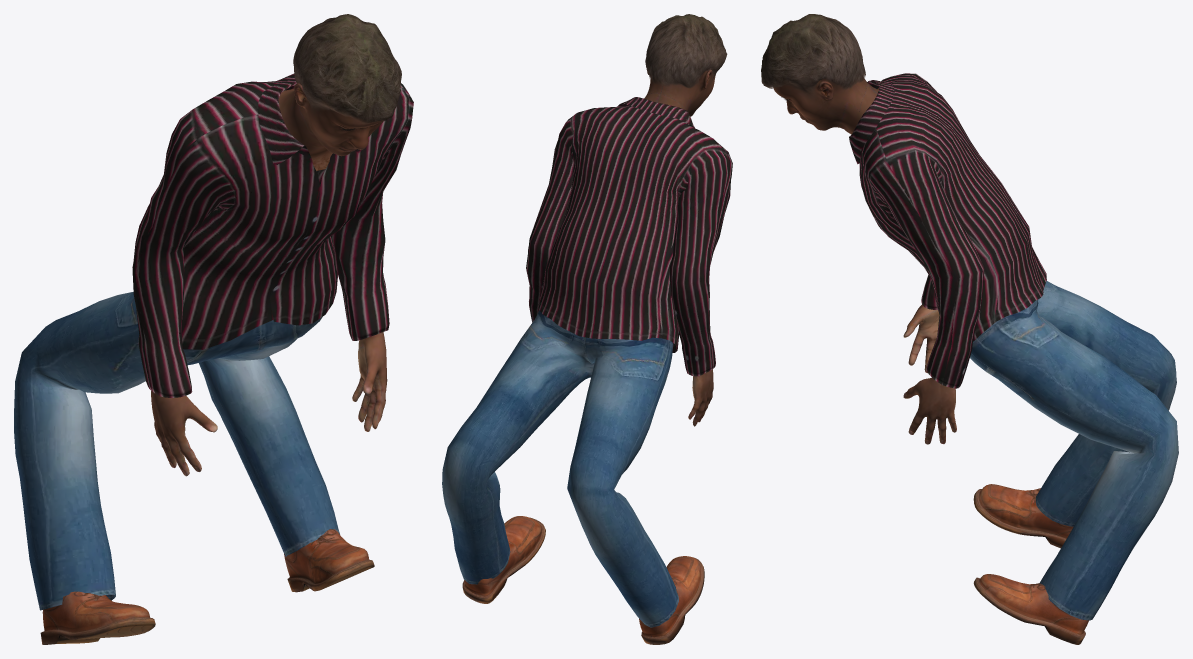
The model's file is uomo-02.glb.
3 renders of one model, left to right at view 1: azimuth 30°, elevation 25°; view 2: azimuth 150°, elevation 25°; view 3: azimuth 270°, elevation 25°, orthographic. The views are drawn at different scales.
Visible parts, largest first — view 1: Human.male_casualsuit03, Human, Human.short02, Human.shoes01; view 2: Human.male_casualsuit03, Human.shoes01, Human.short02, Human; view 3: Human.male_casualsuit03, Human, Human.shoes01, Human.short02.
Part boxes in pixels (x1=…): Human.male_casualsuit03: x1=14, y1=73, x2=413, y2=610; Human: x1=151, y1=83, x2=387, y2=476; Human.short02: x1=293, y1=14, x2=401, y2=123; Human.shoes01: x1=40, y1=529, x2=374, y2=644; Human.male_casualsuit03: x1=442, y1=97, x2=732, y2=627; Human.shoes01: x1=462, y1=516, x2=704, y2=644; Human.short02: x1=645, y1=14, x2=727, y2=88; Human: x1=644, y1=69, x2=715, y2=426; Human.male_casualsuit03: x1=849, y1=73, x2=1178, y2=620; Human: x1=773, y1=78, x2=956, y2=444; Human.shoes01: x1=973, y1=484, x2=1088, y2=644; Human.short02: x1=761, y1=14, x2=865, y2=98.
Size of the model in its own units: 0.6175 by 1.46 by 0.9544.
Materials: 12 (12 with a texture image).
